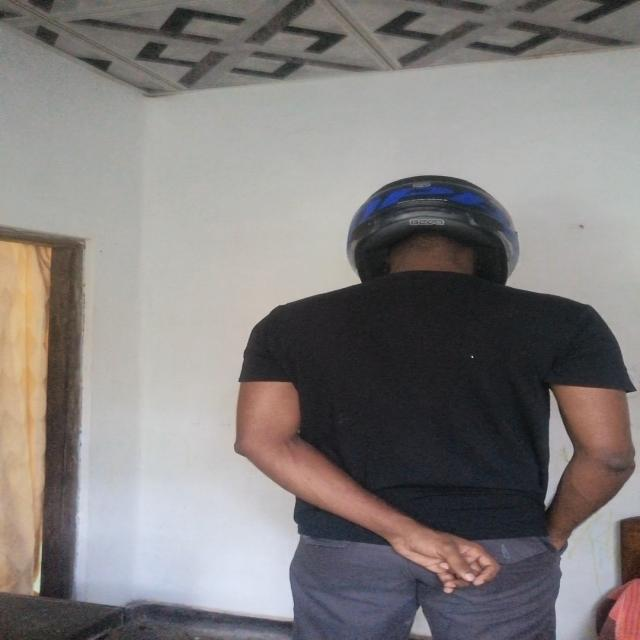Helmet_Wearer: (320, 171, 539, 318)
Person: (225, 199, 640, 640)
